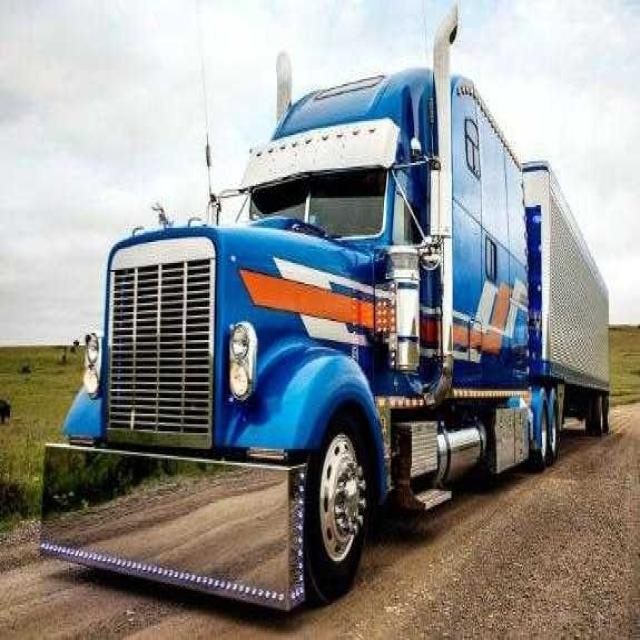Truck: (37, 0, 621, 638)
